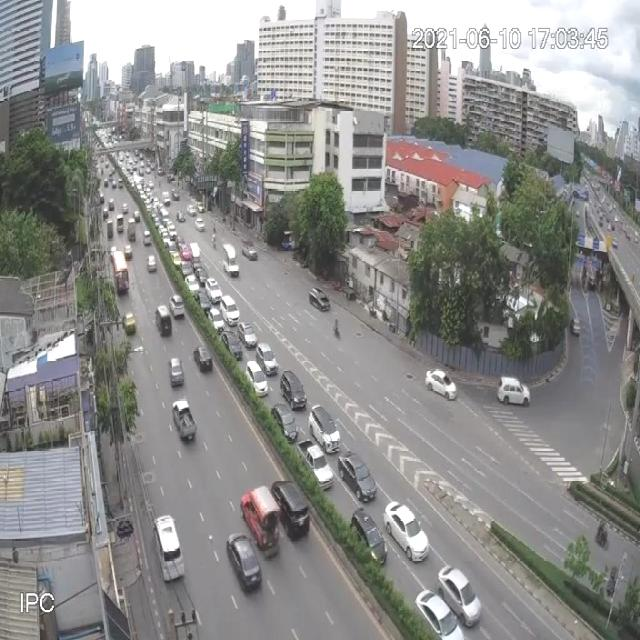Bus: (111, 250, 130, 295)
Car: (438, 564, 481, 628), (385, 501, 429, 561), (270, 477, 310, 540), (415, 589, 464, 640), (152, 514, 184, 583), (351, 508, 388, 567), (225, 532, 262, 590), (337, 451, 377, 502), (308, 404, 341, 453), (280, 369, 308, 409), (424, 368, 458, 400), (271, 402, 298, 442), (498, 374, 530, 406), (246, 361, 269, 397), (255, 342, 277, 375), (220, 329, 242, 359), (220, 294, 239, 326), (194, 344, 214, 373), (238, 320, 258, 349), (308, 286, 330, 312), (168, 356, 184, 386), (195, 288, 213, 314), (205, 278, 222, 305), (206, 305, 223, 331), (169, 294, 185, 320), (185, 274, 200, 298), (241, 240, 258, 260), (122, 312, 136, 336), (194, 266, 208, 286), (180, 258, 193, 278), (171, 252, 183, 270), (570, 318, 581, 336), (147, 254, 157, 272), (167, 241, 178, 256), (195, 217, 205, 232), (143, 230, 152, 246), (116, 214, 124, 232), (168, 225, 177, 240), (176, 210, 186, 222), (186, 204, 196, 216), (124, 244, 132, 259), (107, 220, 113, 240), (162, 232, 170, 246), (196, 202, 205, 214), (172, 188, 180, 200), (133, 210, 141, 222), (102, 205, 109, 218), (110, 245, 117, 258), (146, 179, 154, 189), (122, 203, 129, 214), (612, 237, 618, 248), (108, 198, 114, 209), (157, 167, 164, 176), (111, 180, 117, 189), (100, 193, 104, 204)
Truck: (298, 439, 334, 492), (172, 398, 197, 444), (128, 218, 136, 242)
Van: (240, 486, 282, 556), (222, 244, 239, 278), (155, 304, 173, 336), (191, 243, 204, 269), (159, 207, 170, 226)
